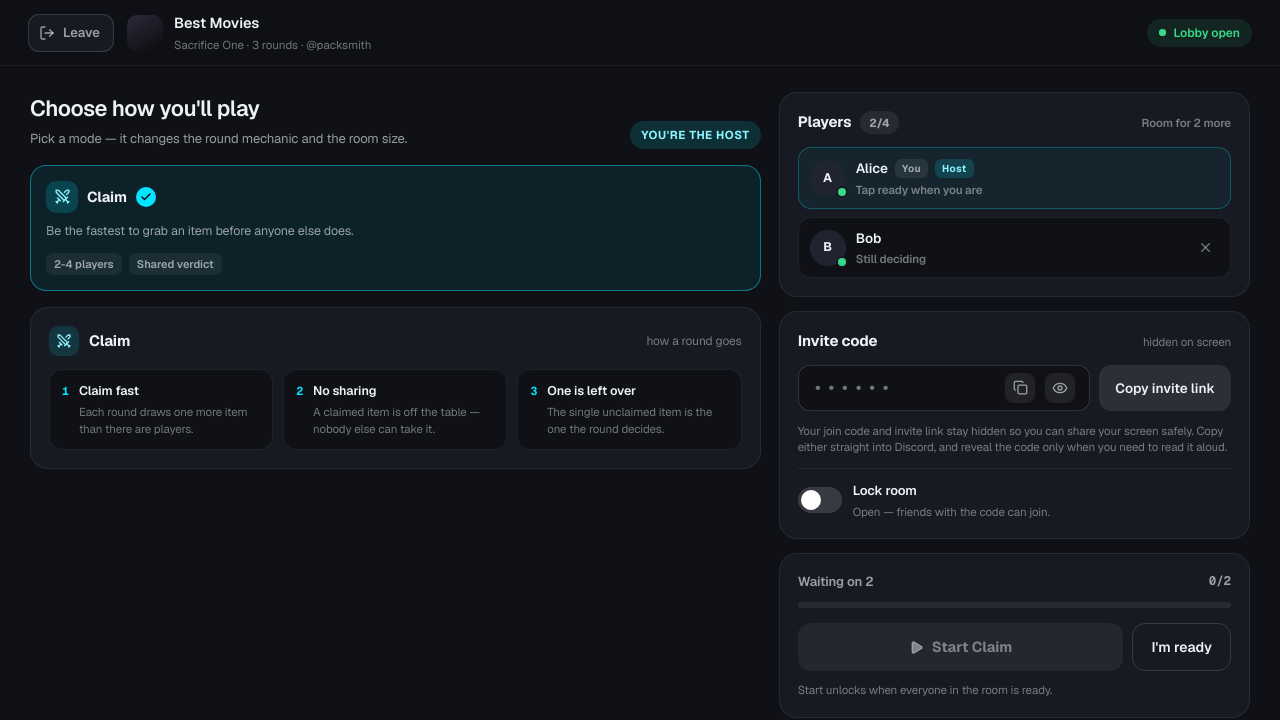
Scenario: RoomScreen — lobby › reveals the code only after the host clicks Reveal
What coordinates should you click on to do the following:
click the button named "Reveal"
I would click on:
 (1060, 388)
Its box is [1045,373,1075,403].
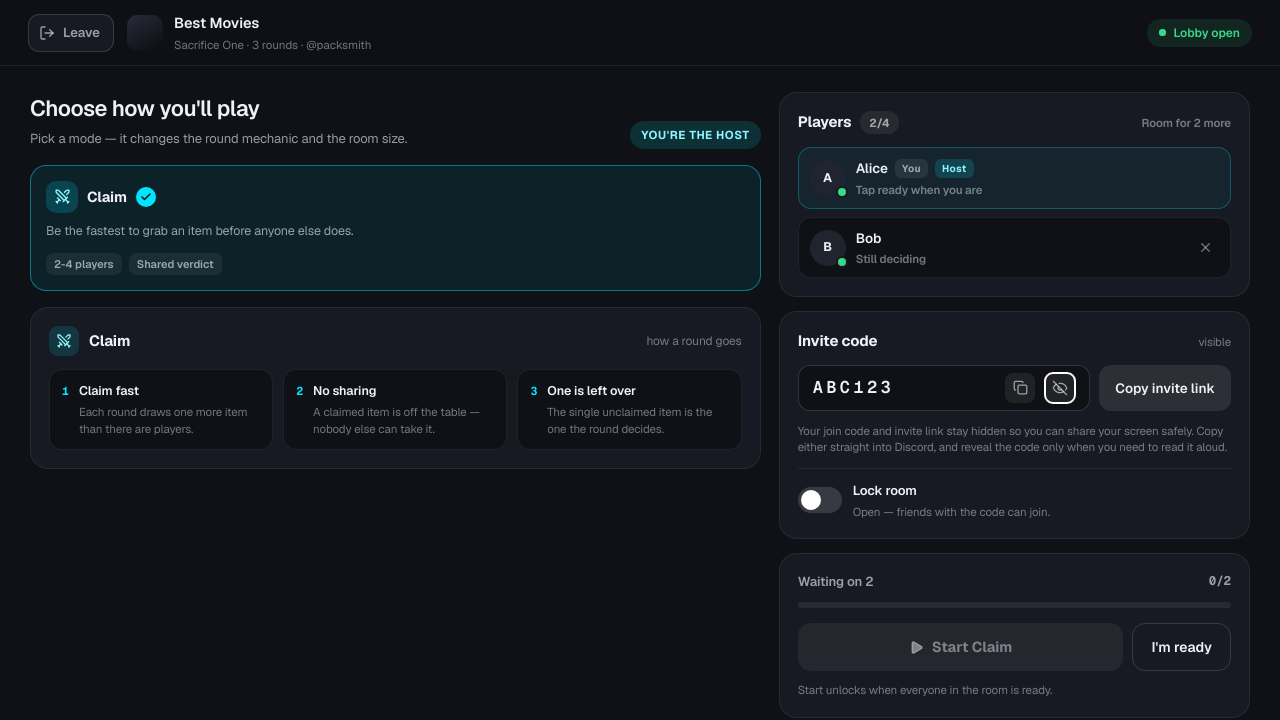
Expected: the text "ABC123" is shown, [813,376,894,398]
